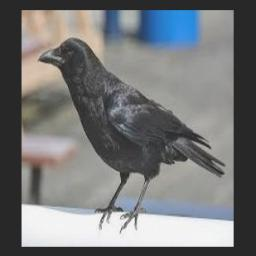Crow: (37, 36, 225, 229)
